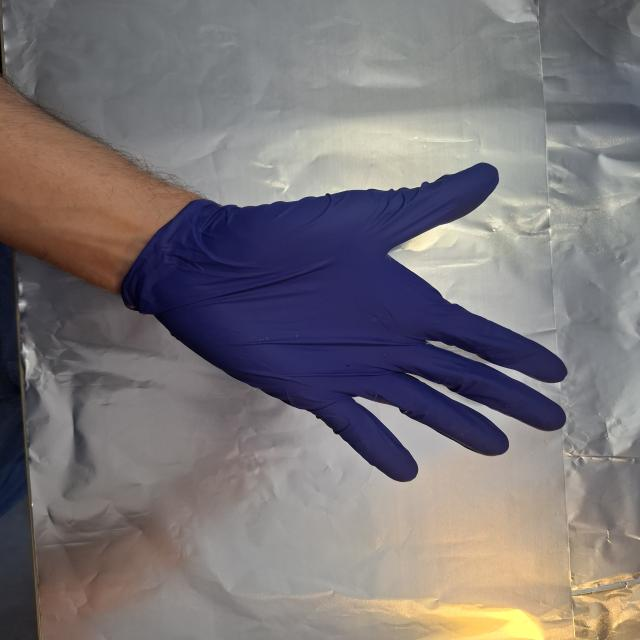glove_on: (117, 159, 571, 484)
